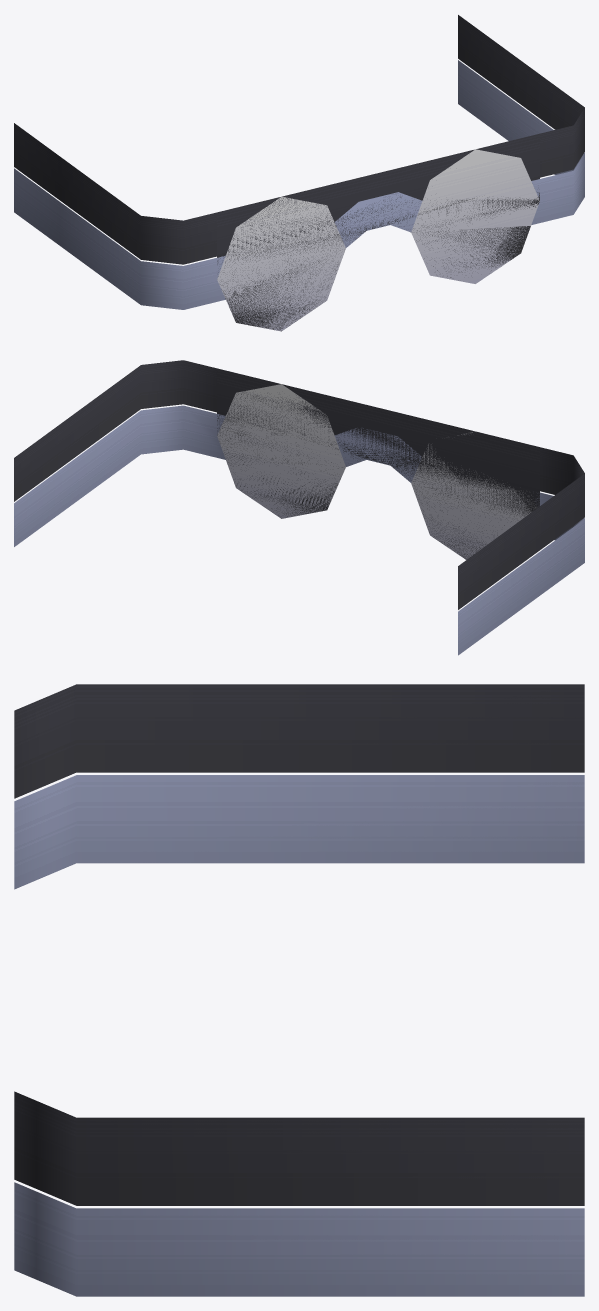
File: head.glb
3 views of the same model, one above another, from view 1: azimuth 30°, elevation 25°; view 2: azimuth 150°, elevation 25°; view 3: azimuth 270°, elevation 25° (orthographic). The views are drawn at different scales.
Visible parts, largest first — view 1: aid-glasses, aid-sunglasses; view 2: aid-glasses, aid-sunglasses; view 3: aid-sunglasses, aid-glasses.
Part boxes in pixels (bbox=[...]): aid-glasses: bbox=[14, 60, 584, 331]; aid-sunglasses: bbox=[14, 15, 584, 331]; aid-glasses: bbox=[14, 384, 584, 655]; aid-sunglasses: bbox=[14, 360, 584, 609]; aid-sunglasses: bbox=[14, 684, 584, 1205]; aid-glasses: bbox=[14, 775, 584, 1296].
Bounding box in the file's own units: 0.33 × 0.0958 × 0.1836.
Materials: 1 (1 with a texture image).
